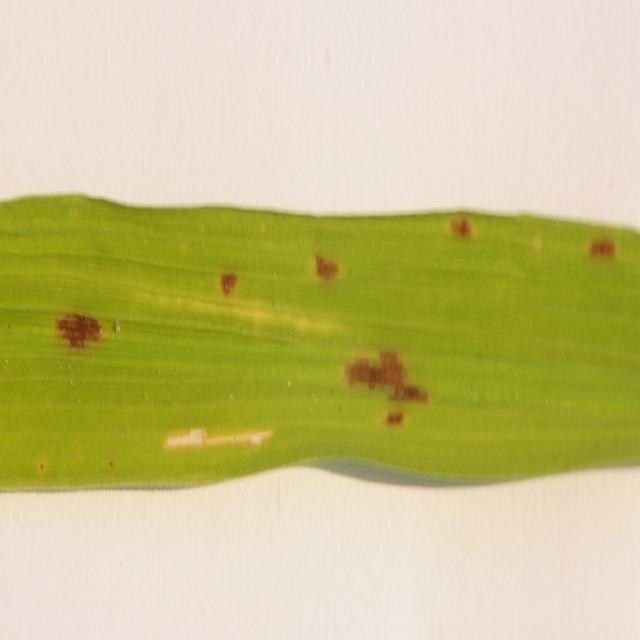brown spot: (338, 327, 432, 457), (52, 284, 122, 373), (297, 240, 350, 295), (580, 220, 619, 270), (440, 210, 478, 256), (214, 247, 243, 305)
leaf blight: (157, 408, 282, 467)
